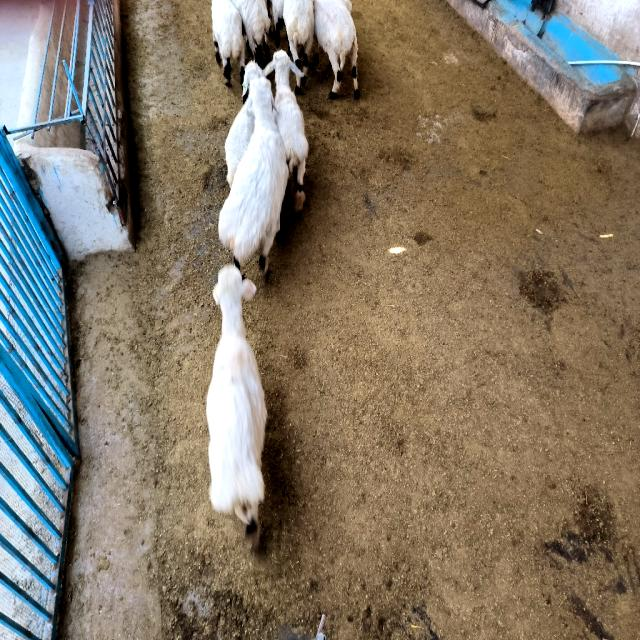sheep: (206, 265, 266, 546), (219, 77, 289, 278), (262, 50, 309, 212), (314, 0, 359, 98), (211, 0, 245, 84), (225, 95, 255, 186), (232, 0, 270, 66), (284, 0, 314, 72), (268, 0, 284, 48), (245, 60, 262, 94)
